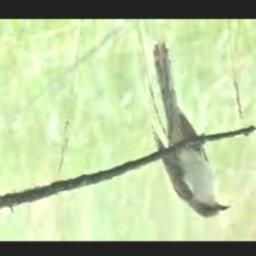Cuckoo: (148, 40, 229, 218)
